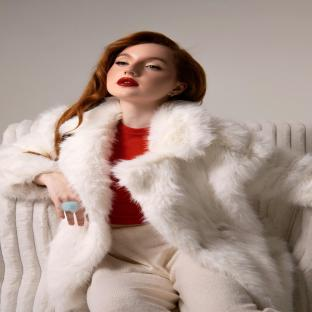Human: (0, 31, 312, 312)
